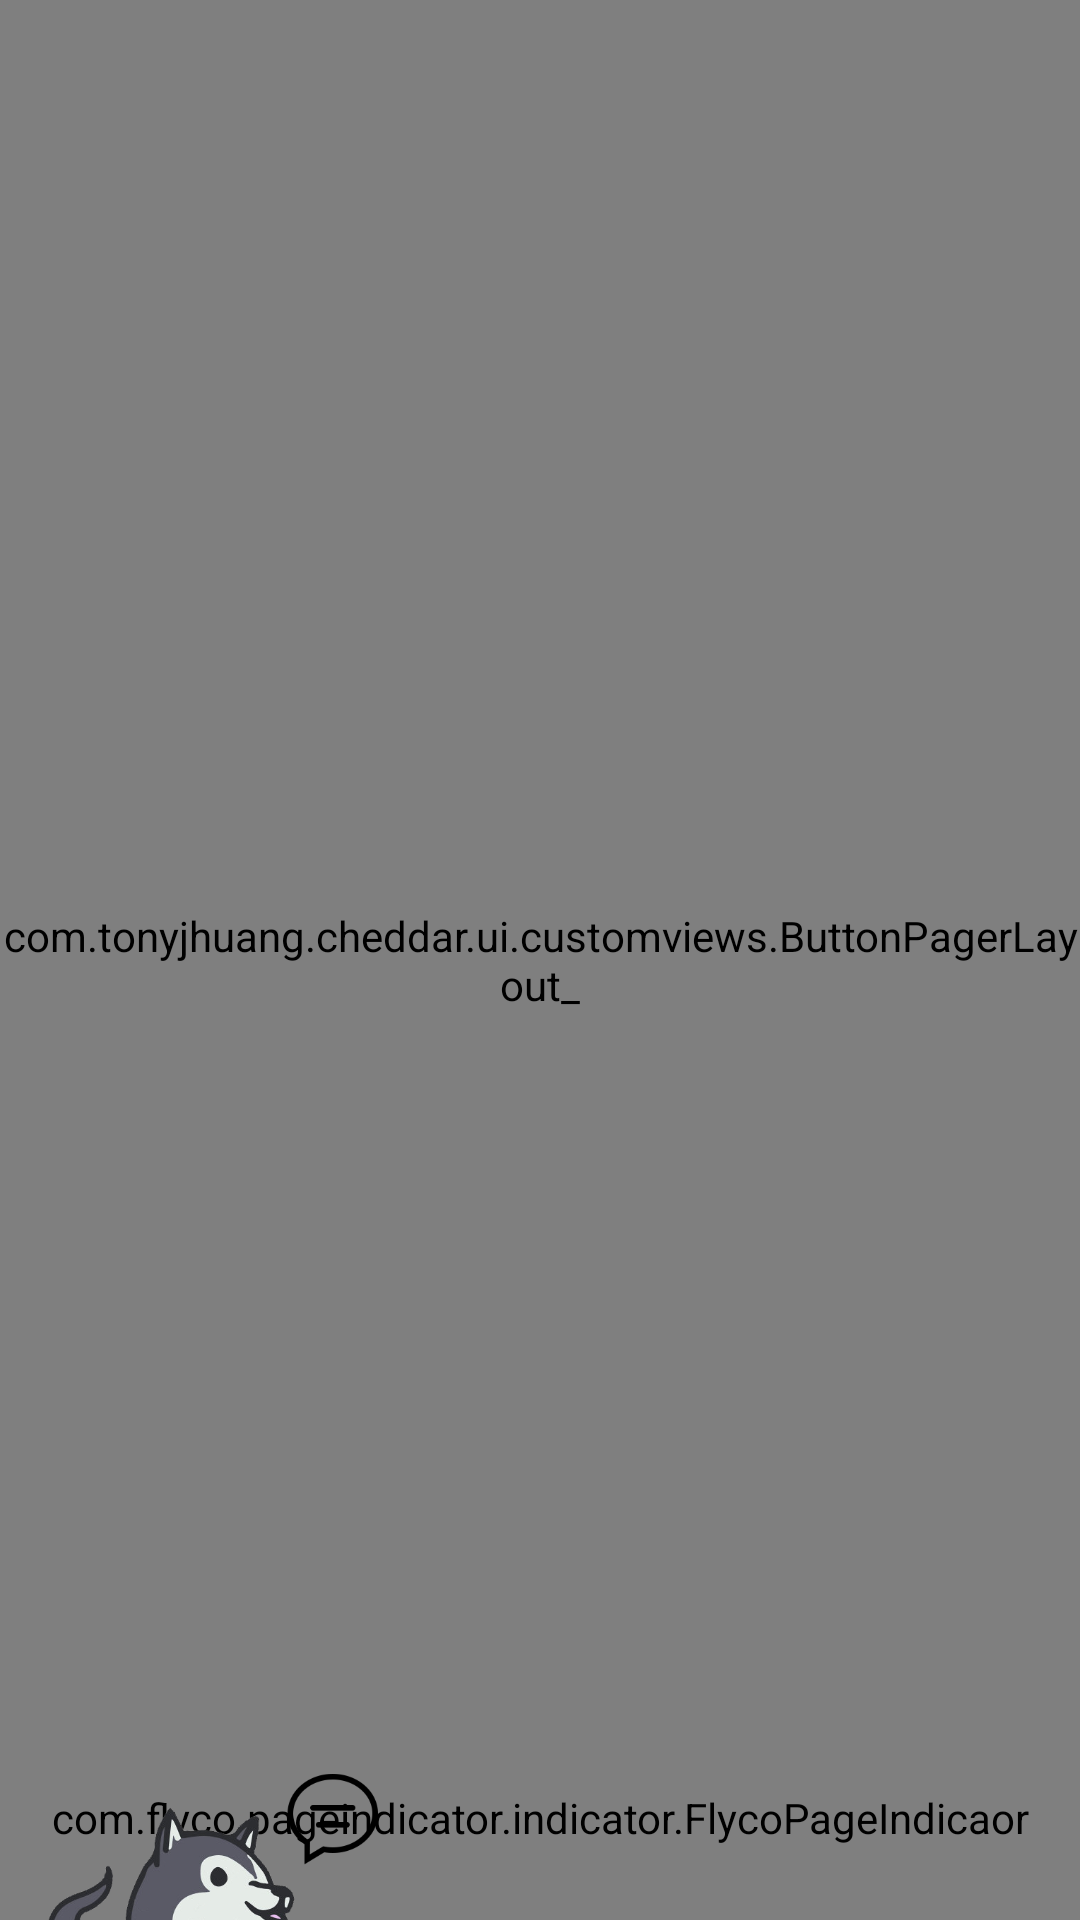

Screen size 1080×1920. Icon name, then its center in pixels as point (x, y):
husky talk: point (202, 1861)
